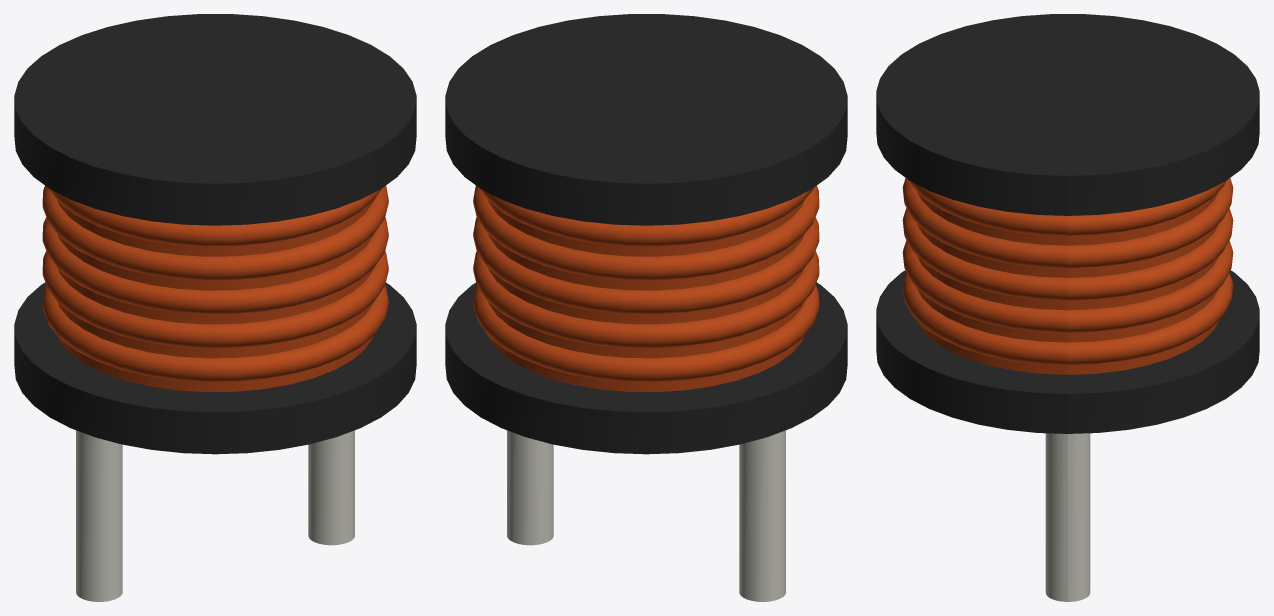
File: kc-l_radial_d6.0mm_p4.00mm.glb
3 renders of one model, left to right at view 1: azimuth 30°, elevation 25°; view 2: azimuth 150°, elevation 25°; view 3: azimuth 270°, elevation 25°, orthographic. The views are drawn at different scales.
Visible parts, largest first — view 1: 0_0_0_0, 0.4166666666666667_0.08333333333333333_0_0, 0.6666666666666666_0.6666666666666666_0.5833333333333334_0.8; view 2: 0_0_0_0, 0.4166666666666667_0.08333333333333333_0_0, 0.6666666666666666_0.6666666666666666_0.5833333333333334_0.8; view 3: 0_0_0_0, 0.4166666666666667_0.08333333333333333_0_0, 0.6666666666666666_0.6666666666666666_0.5833333333333334_0.8.
Part boxes in pixels (x1,y1,x2,y2): 0_0_0_0: (14,14,416,454); 0.4166666666666667_0.08333333333333333_0_0: (42,185,388,392); 0.6666666666666666_0.6666666666666666_0.5833333333333334_0.8: (76,430,354,601); 0_0_0_0: (445,14,847,454); 0.4166666666666667_0.08333333333333333_0_0: (473,185,819,392); 0.6666666666666666_0.6666666666666666_0.5833333333333334_0.8: (507,430,785,601); 0_0_0_0: (876,14,1259,433); 0.4166666666666667_0.08333333333333333_0_0: (902,178,1233,374); 0.6666666666666666_0.6666666666666666_0.5833333333333334_0.8: (1045,433,1090,601).
Bounding box in the file's own units: 0.599 × 0.765 × 0.5995.
